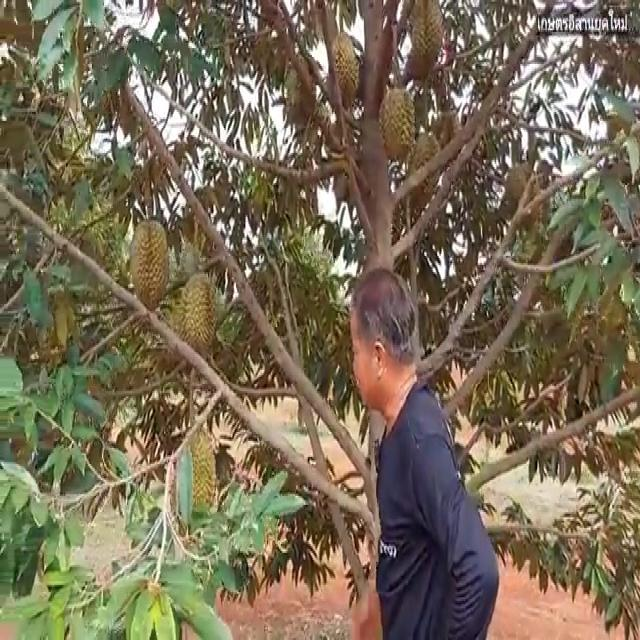durian: (170, 422, 222, 527), (128, 213, 171, 314), (175, 269, 218, 364), (377, 83, 418, 168), (405, 1, 447, 83), (327, 29, 364, 114), (406, 127, 443, 204)
